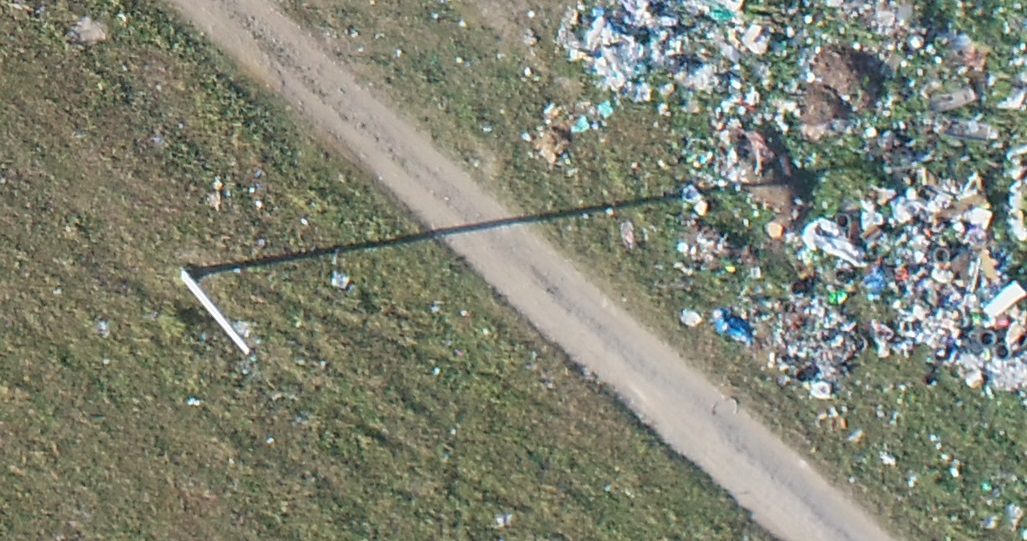opora: (179, 254, 267, 377)
